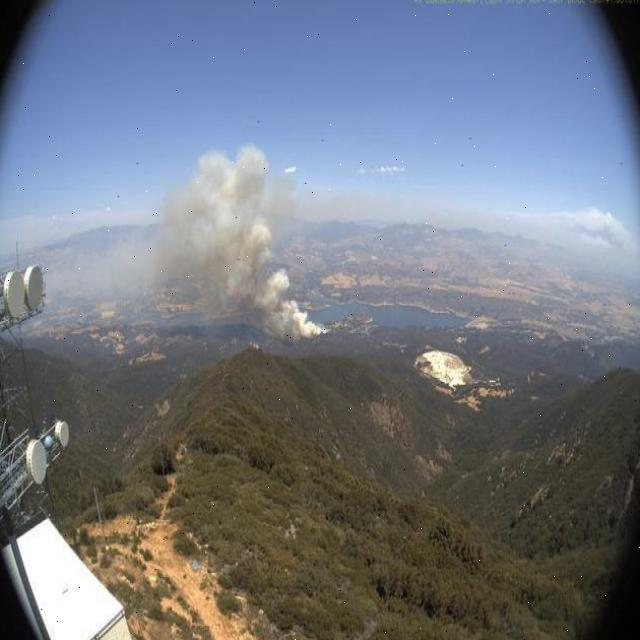smoke: (120, 137, 331, 346)
